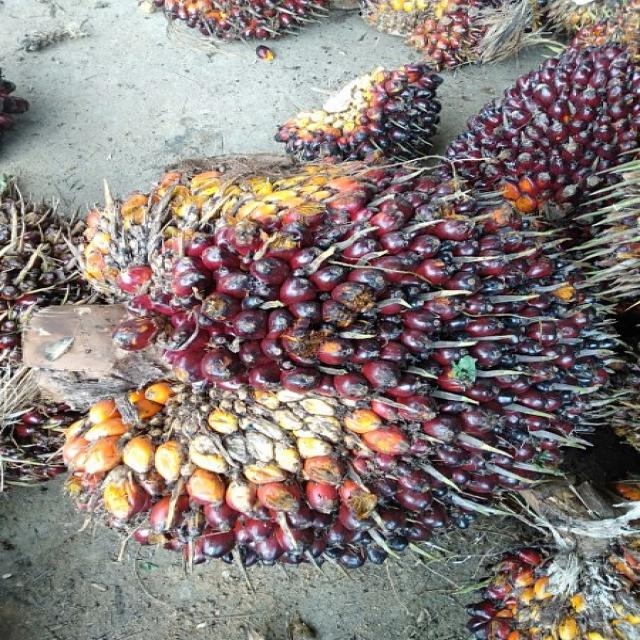fraksi 00: (272, 61, 455, 170)
fraksi 1: (77, 156, 610, 563)
